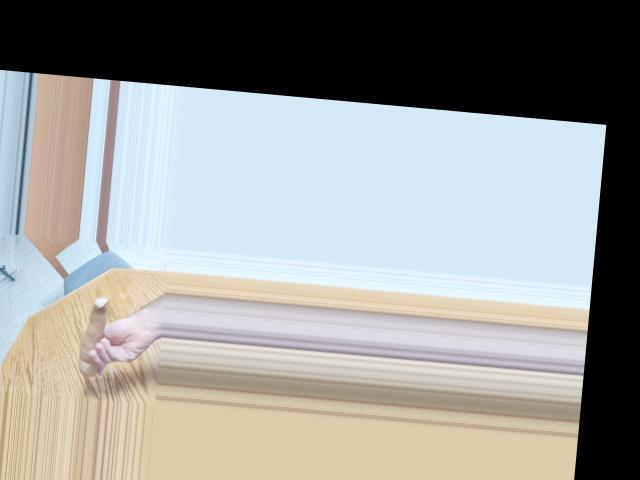sweet_potato: (74, 298, 116, 379)
